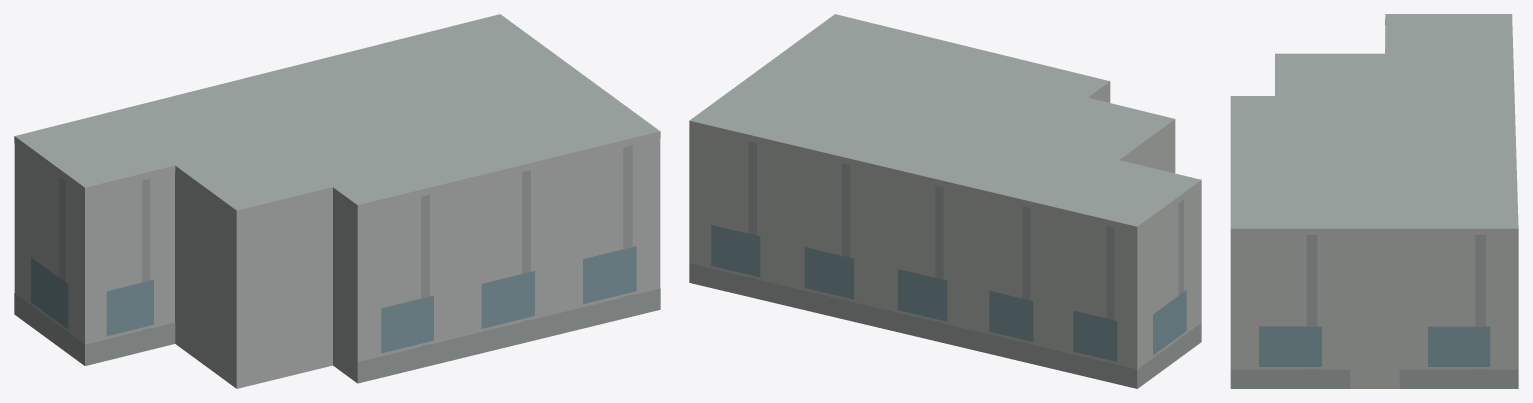
File: survey-upis-32975673.glb
3 renders of one model, left to right at view 1: azimuth 30°, elevation 25°; view 2: azimuth 150°, elevation 25°; view 3: azimuth 270°, elevation 25°, orthographic. The views are drawn at different scales.
Parts seen in each view (by area): view 1: survey-upis-32975673.tmp; view 2: survey-upis-32975673.tmp; view 3: survey-upis-32975673.tmp.
Part boxes in pixels (x1=…): survey-upis-32975673.tmp: x1=14, y1=14, x2=660, y2=388; survey-upis-32975673.tmp: x1=689, y1=14, x2=1201, y2=388; survey-upis-32975673.tmp: x1=1230, y1=14, x2=1518, y2=388.
Bounding box in the file's own units: 17.55 × 6.1 × 9.95.
